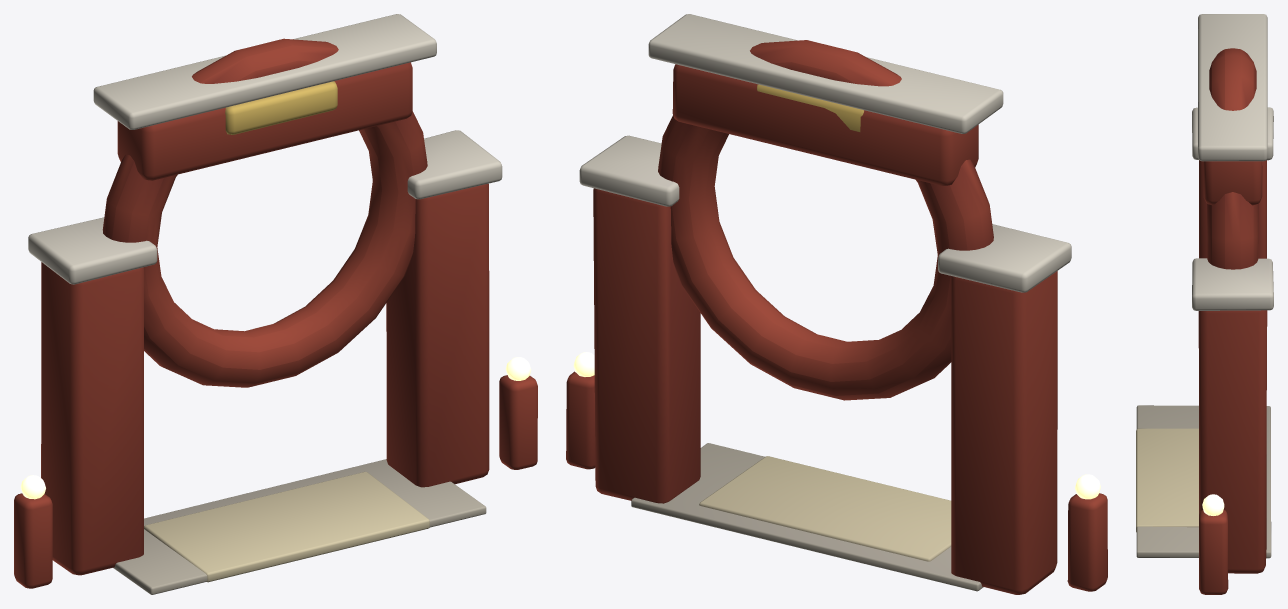
3 views of the same model, side by side, from view 1: azimuth 30°, elevation 25°; view 2: azimuth 150°, elevation 25°; view 3: azimuth 270°, elevation 25° (orthographic). The views are drawn at different scales.
Parts seen in each view (by area): view 1: gate_f6e455b1; view 2: gate_f6e455b1; view 3: gate_f6e455b1.
Boxes of the visible parts, bbox=[...] form: gate_f6e455b1: bbox=[14, 14, 537, 594]; gate_f6e455b1: bbox=[566, 14, 1107, 594]; gate_f6e455b1: bbox=[1136, 14, 1273, 594].
Size of the model in its own units: 5.5 by 4.82 by 1.43.
